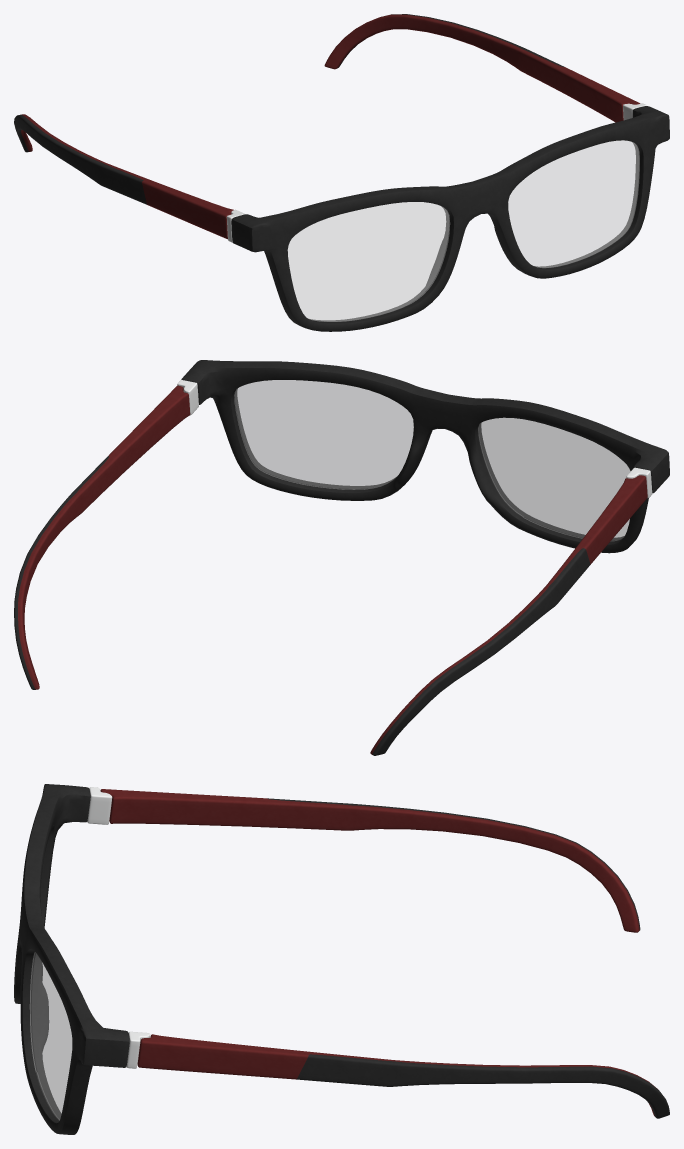
Rendered from The Scholar.glb.
3 views of the same model, one above another, from view 1: azimuth 30°, elevation 25°; view 2: azimuth 150°, elevation 25°; view 3: azimuth 270°, elevation 25° (orthographic). The views are drawn at different scales.
Parts seen in each view (by area): view 1: Cube.003_4_9.001, Cube_6_3.001, Cube.002_3_7.001, Cube.004_5_11.001; view 2: Cube.003_4_9.001, Cube_6_3.001, Cube.002_3_7.001, Cube.004_5_11.001, Cube.001_2_5.001; view 3: Cube.002_3_7.001, Cube_6_3.001, Cube.004_5_11.001, Cube.003_4_9.001, Cube.001_2_5.001.
Part boxes in pixels (left/top/right/bottom): Cube.003_4_9.001: left=287, top=140, right=639, bottom=321; Cube_6_3.001: left=231, top=106, right=669, bottom=331; Cube.002_3_7.001: left=20, top=14, right=640, bottom=239; Cube.004_5_11.001: left=14, top=14, right=564, bottom=204; Cube.003_4_9.001: left=234, top=380, right=630, bottom=541; Cube_6_3.001: left=181, top=360, right=669, bottom=553; Cube.002_3_7.001: left=18, top=385, right=647, bottom=754; Cube.004_5_11.001: left=14, top=456, right=590, bottom=755; Cube.001_2_5.001: left=177, top=380, right=652, bottom=498; Cube.002_3_7.001: left=100, top=789, right=658, bottom=1116; Cube_6_3.001: left=14, top=784, right=129, bottom=1134; Cube.004_5_11.001: left=267, top=798, right=669, bottom=1118; Cube.003_4_9.001: left=29, top=952, right=72, bottom=1120; Cube.001_2_5.001: left=87, top=787, right=150, bottom=1068.
Size of the model in its own units: 12.59 by 3.43 by 13.36.
4 materials, 3 textured.
